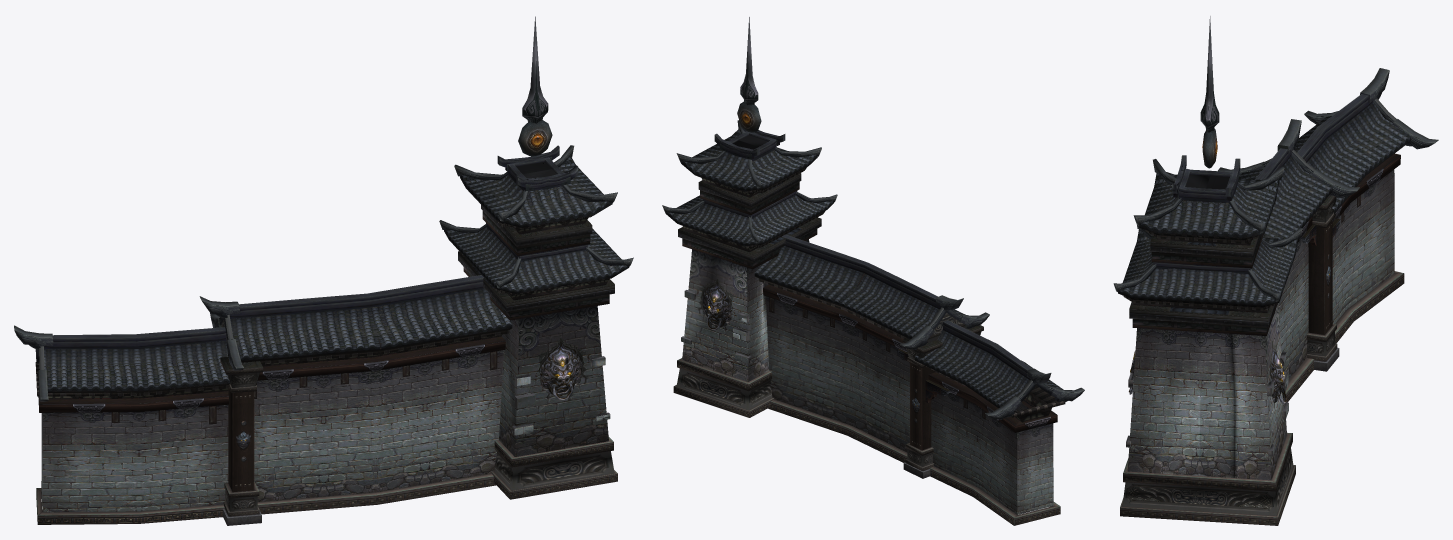
File: GWZ_Building_dadian05.FBX
The picture shows the model from 3 angles, left to right: view 1: azimuth 30°, elevation 25°; view 2: azimuth 150°, elevation 25°; view 3: azimuth 270°, elevation 25°; orthographic projection. The views are drawn at different scales.
Visible parts, largest first — view 1: GWZ_Building_dadian05; view 2: GWZ_Building_dadian05; view 3: GWZ_Building_dadian05.
Part boxes in pixels (x1=…): GWZ_Building_dadian05: x1=14, y1=16, x2=633, y2=525; GWZ_Building_dadian05: x1=662, y1=17, x2=1084, y2=525; GWZ_Building_dadian05: x1=1113, y1=16, x2=1438, y2=525.
Bounding box in the file's own units: 4060 × 3338 × 2032.
